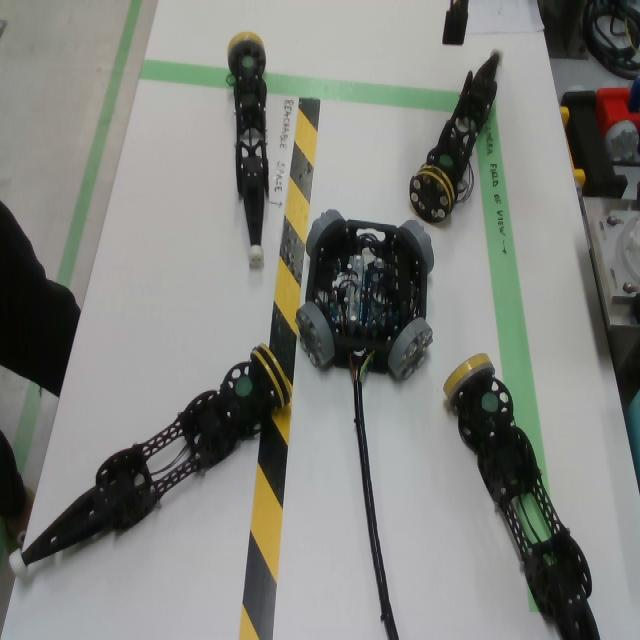body: (306, 220, 427, 377)
body_connector: (387, 317, 433, 384), (295, 301, 336, 372), (398, 220, 434, 273), (306, 209, 345, 256)
leg: (9, 343, 292, 573), (442, 353, 601, 640), (410, 48, 503, 224), (227, 31, 269, 271)
leg_connector: (249, 344, 293, 408), (443, 353, 495, 407), (409, 165, 456, 222), (227, 32, 266, 67)
leg_marker: (235, 376, 252, 397), (482, 393, 498, 412), (242, 56, 254, 68), (440, 155, 453, 165)
